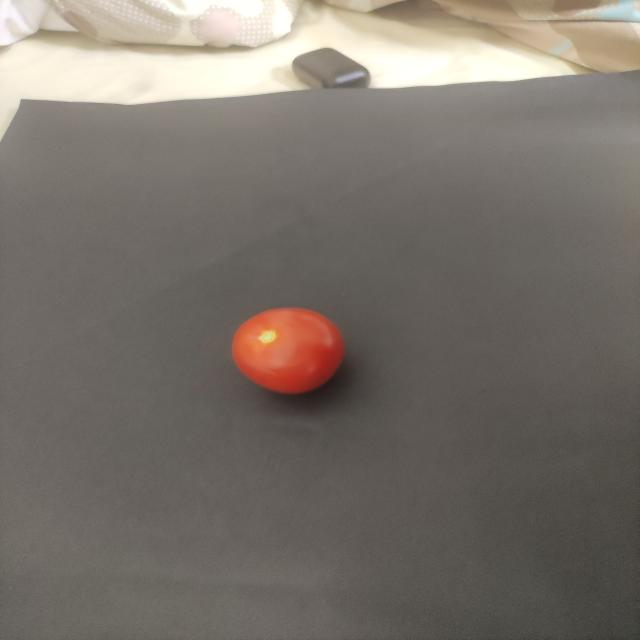kirmizi: (219, 295, 365, 403)
